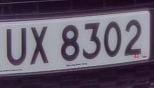0: (101, 15, 124, 61)
2: (122, 15, 144, 59)
3: (79, 19, 104, 63)
8: (57, 20, 82, 63)
U: (3, 25, 28, 68)
X: (29, 23, 51, 69)
